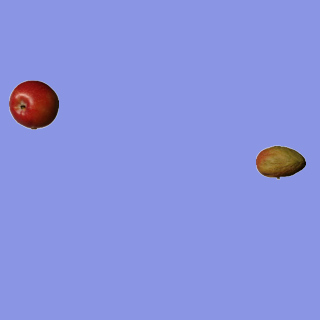Apple Braeburn: (8, 79, 58, 129)
Papaya: (255, 137, 305, 187)
